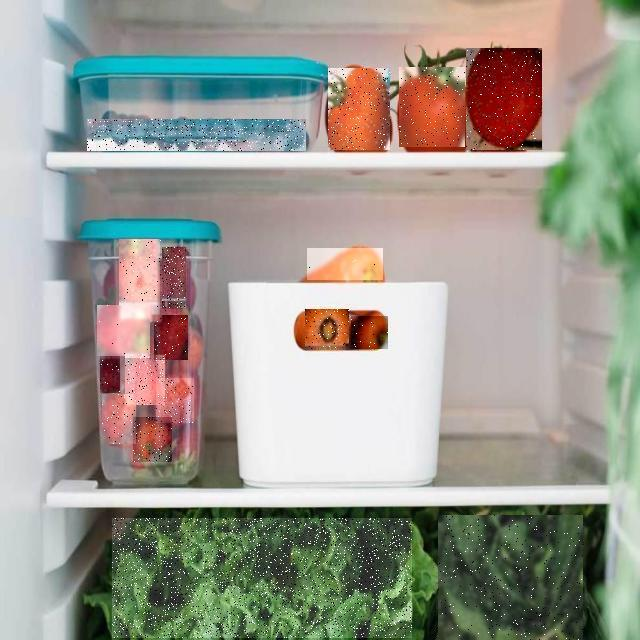carrot: (157, 174, 545, 524), (130, 175, 480, 525), (116, 140, 498, 420)
